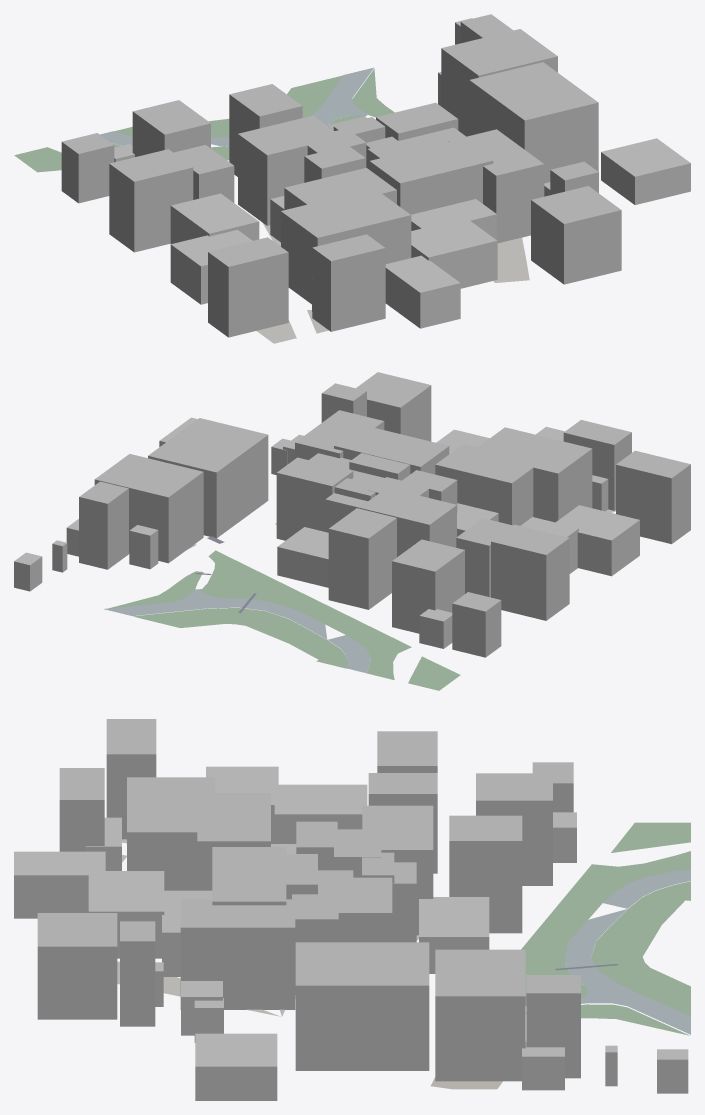
Rendered from 129_103_mid.glb.
3 renders of one model, top to bottom at view 1: azimuth 30°, elevation 25°; view 2: azimuth 150°, elevation 25°; view 3: azimuth 270°, elevation 25°, orthographic. The views are drawn at different scales.
Bounding box in the file's own units: 554 × 83.09 × 540.
